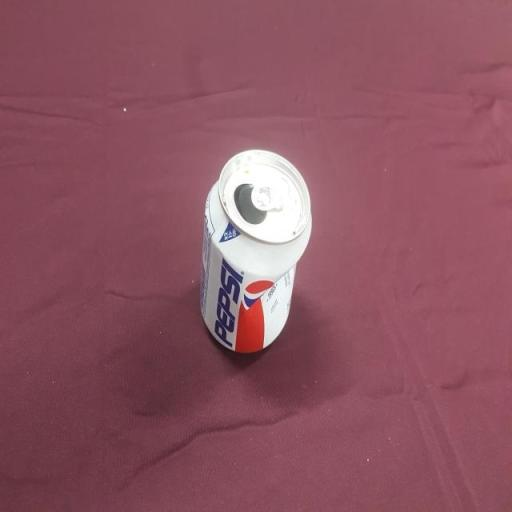metal: (190, 134, 322, 372)
